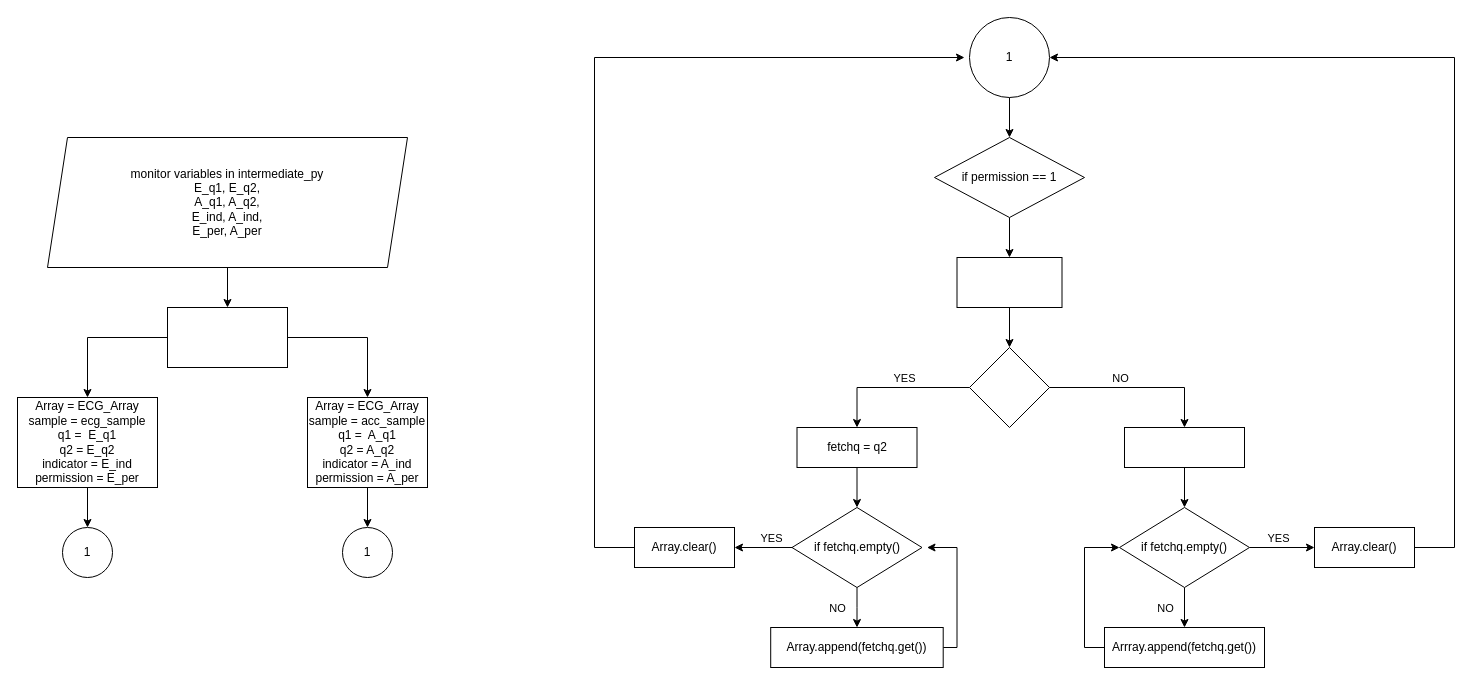
Some shapes in this 1480 by 685 pixel diagram are drawn without their labels. The shapes that lost their labels are listed below. From the top down, each one's centre as x and y in pixels, then its label:
At (1009,282): "permission = 0".
At (227,337): "Create ECG_Array[ ] ACC_Array[ ]".
At (1009,387): "if ind == 1".
At (1184,447): "fetchq = q1".
